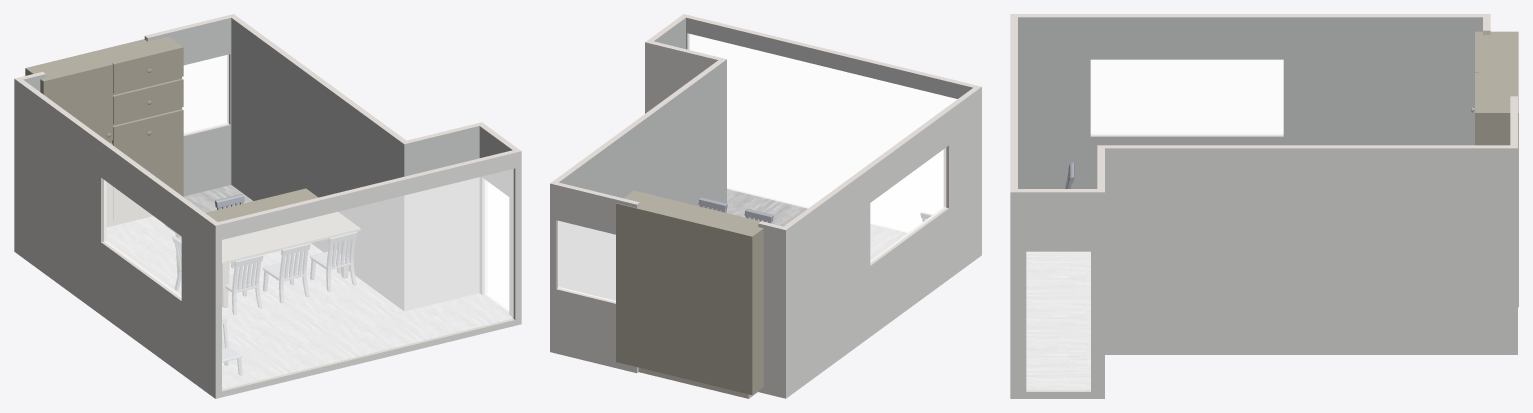
The model's file is Salle_214.glb.
3 renders of one model, left to right at view 1: azimuth 30°, elevation 25°; view 2: azimuth 150°, elevation 25°; view 3: azimuth 270°, elevation 25°, orthographic. The views are drawn at different scales.
Parts seen in each view (by area): view 1: door_0, door_2, wall_3, wall_9, floor_Dining_Room, storage_cabinet_tall20, wall_15, wall_5, wall_11, table_other_rect0, window_1, window_3 (+12 smaller); view 2: wall_3, storage_cabinet_tall20, door_0, door_2, wall_9, wall_2, window_1, window_3, wall_17, wall_0, window_0, window_2 (+8 smaller); view 3: wall_1, wall_13, window_1, window_3, wall_6, door_1, door_3, floor_Dining_Room, storage_cabinet_tall20, wall_14, wall_10, wall_18 (+1 smaller).
Boxes of the visible parts, box(x1,y1,x2,y2) form: door_0: box(222, 169, 513, 389); door_2: box(222, 169, 513, 389); wall_3: box(14, 79, 215, 398); wall_9: box(231, 18, 404, 310); floor_Dining_Room: box(107, 185, 512, 389); storage_cabinet_tall20: box(25, 36, 183, 226); wall_15: box(404, 126, 479, 310); wall_5: box(215, 151, 521, 398); wall_11: box(147, 18, 231, 196); table_other_rect0: box(165, 188, 360, 307); window_1: box(104, 180, 181, 297); window_3: box(104, 180, 181, 297); wall_3: box(786, 87, 981, 398); storage_cabinet_tall20: box(616, 190, 763, 395); door_0: box(688, 34, 956, 208); door_2: box(688, 34, 956, 208); wall_9: box(559, 59, 726, 300); wall_2: box(550, 183, 636, 373); window_1: box(870, 148, 945, 262); window_3: box(870, 148, 945, 262); wall_17: box(686, 17, 972, 98); wall_0: box(758, 223, 785, 398); window_0: box(558, 221, 615, 301); window_2: box(558, 221, 615, 301); wall_1: box(1105, 148, 1517, 354); wall_13: box(1018, 17, 1482, 188); window_1: box(1091, 60, 1283, 134); window_3: box(1091, 60, 1283, 134); wall_6: box(1010, 192, 1104, 398); door_1: box(1026, 252, 1090, 389); door_3: box(1026, 252, 1090, 389); floor_Dining_Room: box(1026, 252, 1090, 389); storage_cabinet_tall20: box(1471, 31, 1518, 307); wall_14: box(1011, 14, 1489, 136); wall_10: box(1098, 145, 1516, 148); wall_18: box(1010, 14, 1017, 191).
Bounding box in the file's own units: 5.47 × 2.96 × 6.59.
26 materials, 1 textured.
